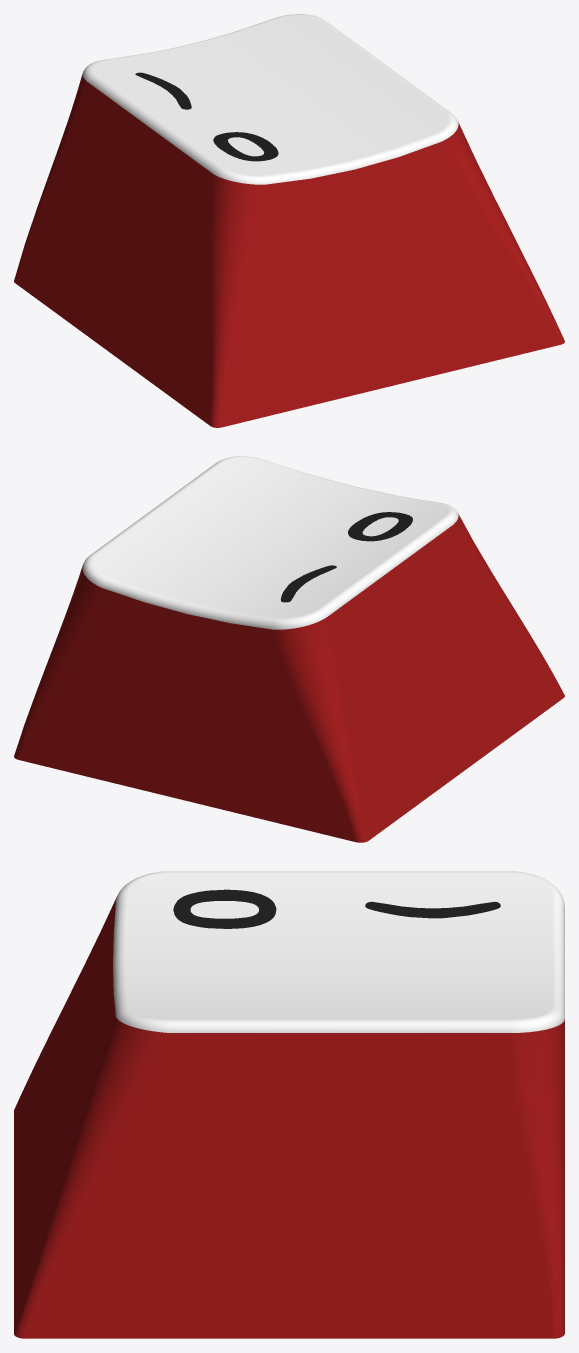
The picture shows the model from 3 angles, top to bottom: view 1: azimuth 30°, elevation 25°; view 2: azimuth 150°, elevation 25°; view 3: azimuth 270°, elevation 25°; orthographic projection. The views are drawn at different scales.
Parts seen in each view (by area): view 1: Body1; view 2: Body1; view 3: Body1.
Boxes of the visible parts, x1=… form: Body1: x1=14, y1=14, x2=564, y2=427; Body1: x1=14, y1=456, x2=564, y2=842; Body1: x1=14, y1=871, x2=564, y2=1338.
Bounding box in the file's own units: 18 × 9.95 × 18.
